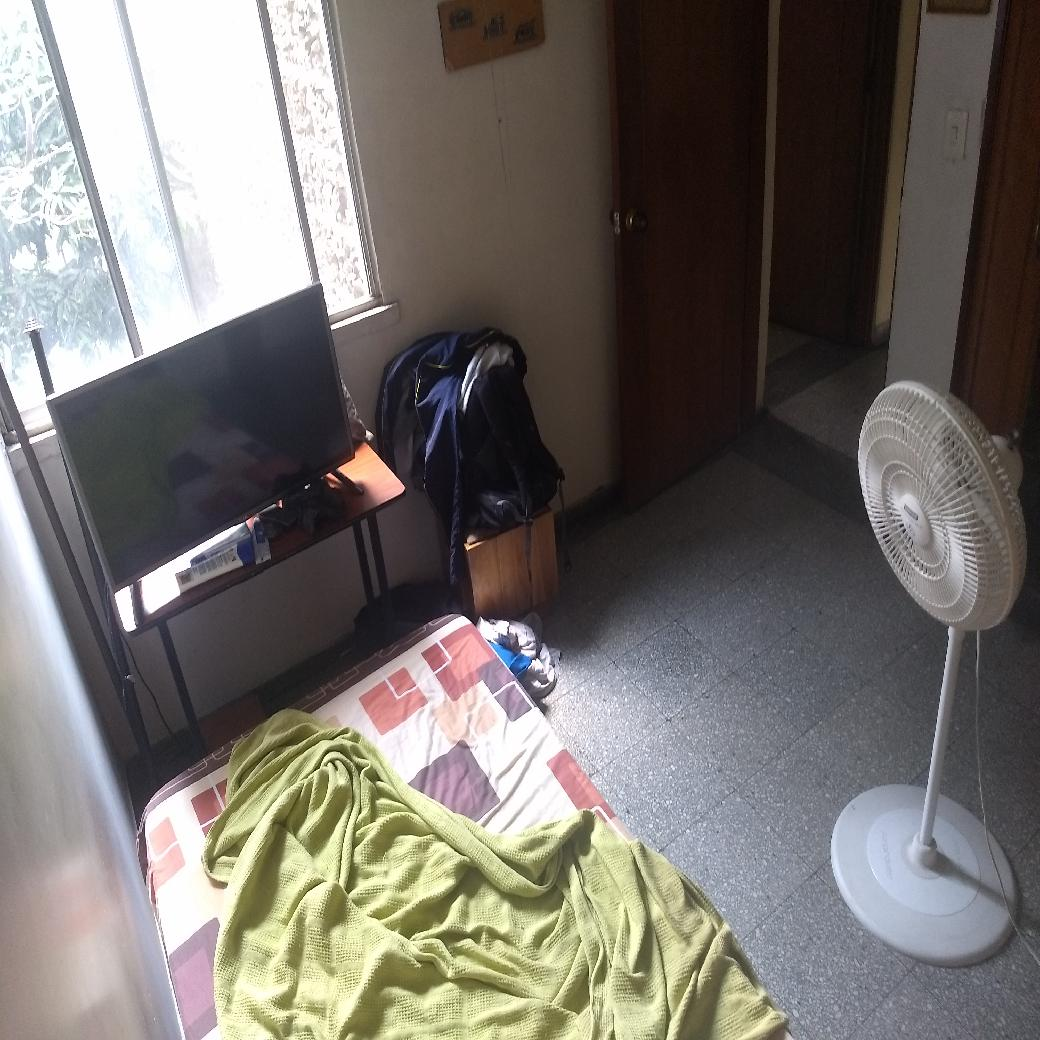tv: (47, 283, 361, 621)
ventilador: (853, 381, 1028, 667)
